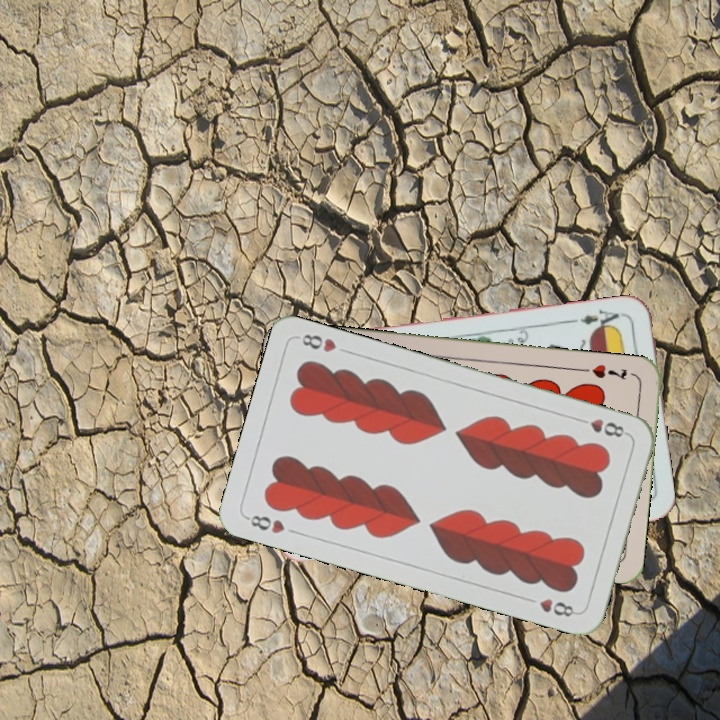EA: (576, 305, 627, 333)
H7: (577, 360, 630, 383)
H8: (573, 414, 631, 440), (242, 510, 288, 537)
